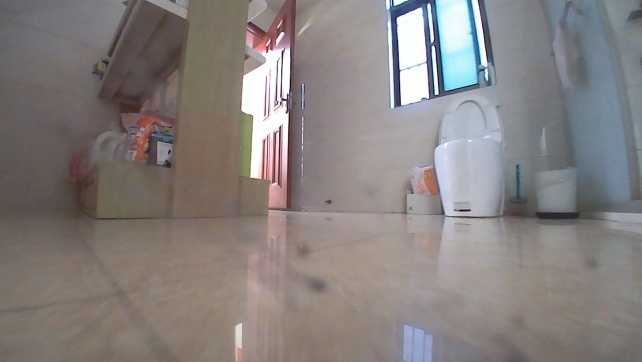door_anno: (259, 0, 298, 210)
toilet: (429, 91, 506, 217)
